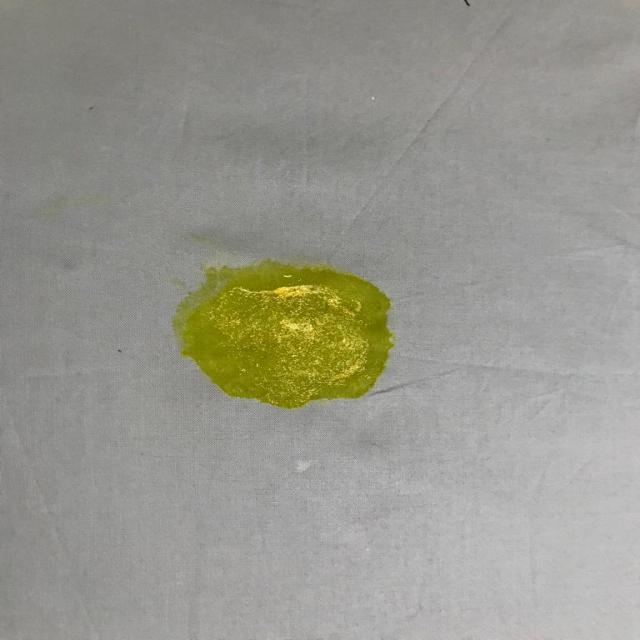Stain: (173, 261, 393, 409)
